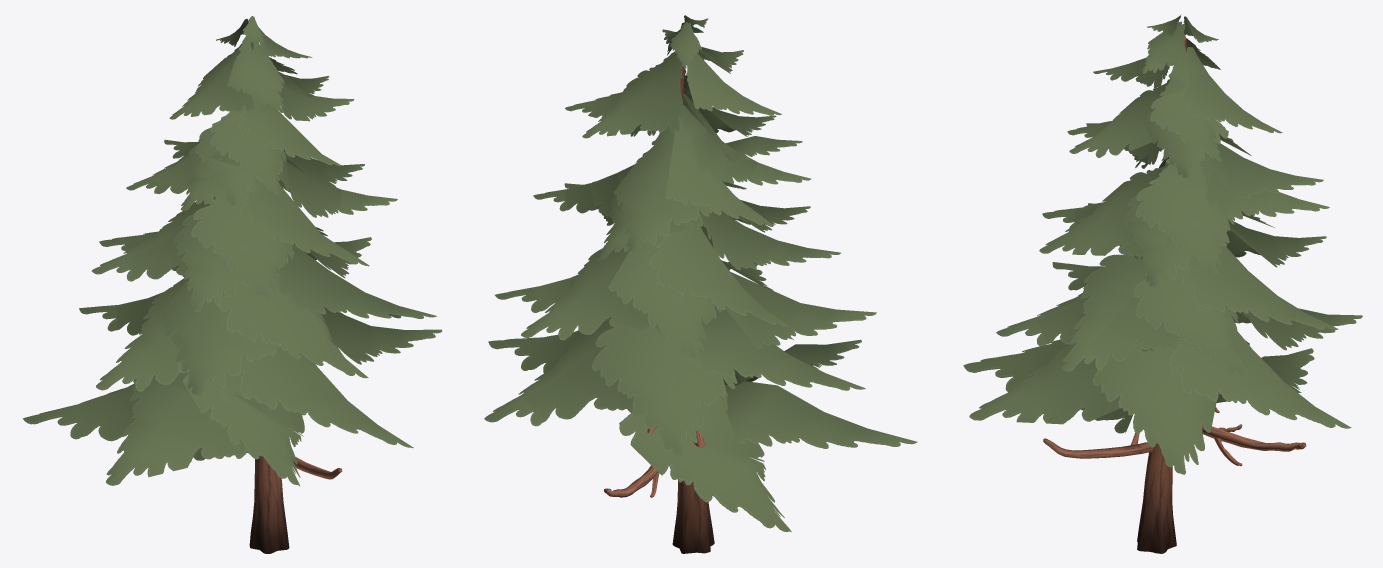
File: pinew2.glb
3 views of the same model, side by side, from view 1: azimuth 30°, elevation 25°; view 2: azimuth 150°, elevation 25°; view 3: azimuth 270°, elevation 25° (orthographic). The views are drawn at different scales.
Visible parts, largest first — view 1: Pine_2; view 2: Pine_2; view 3: Pine_2.
Part boxes in pixels (x1,y1,x2,y2): Pine_2: (23,16,442,553); Pine_2: (484,15,917,553); Pine_2: (963,14,1362,553).
Size of the model in its own units: 5.73 by 7.38 by 5.22.
Materials: 2 (2 with a texture image).
